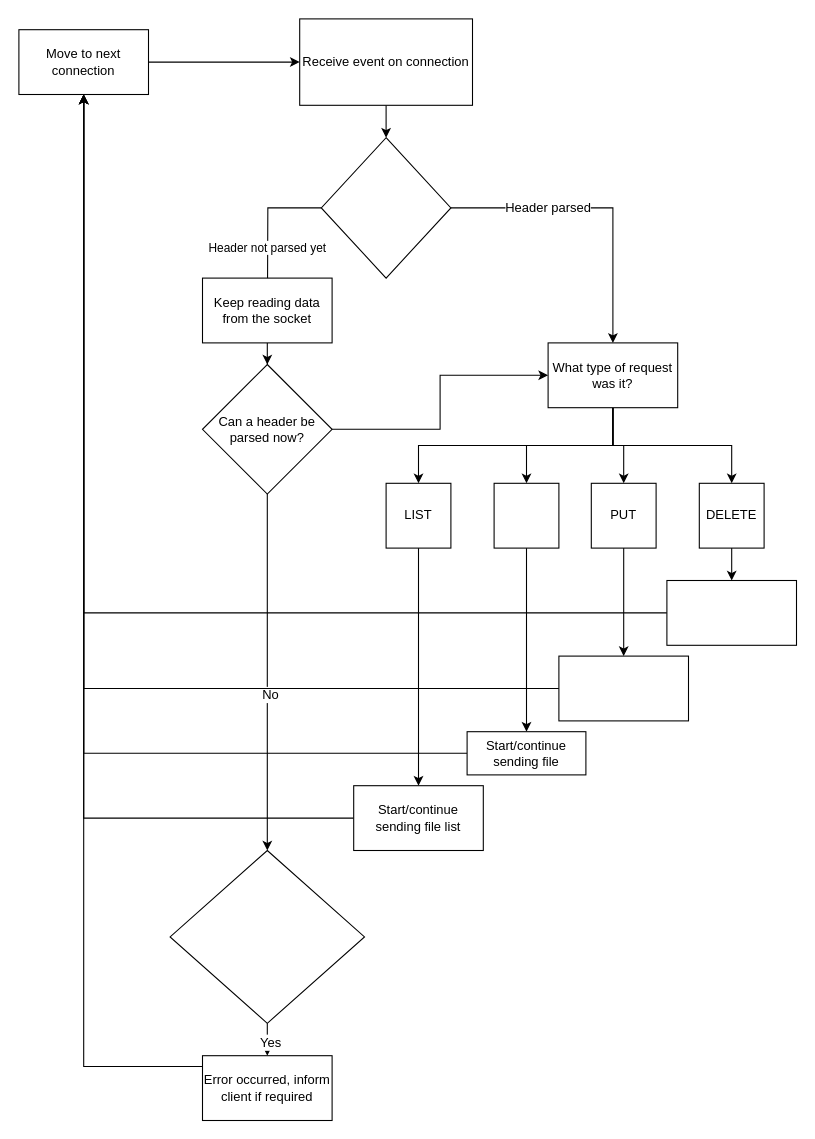
Image size: 815x1139. Some labels were removed from this diagram. The shapes that lost their labels are listed below. From the top down, each one's centre as x and y in pixels, then its label:
At [385,207]: "Current state of connection?".
At [526,515]: "GET".
At [731,612]: "Remove file from temporary directory, send response".
At [623,688]: "Start/continue receiving data from client".
At [266,936]: "Did the client send too much data without a newline?".
